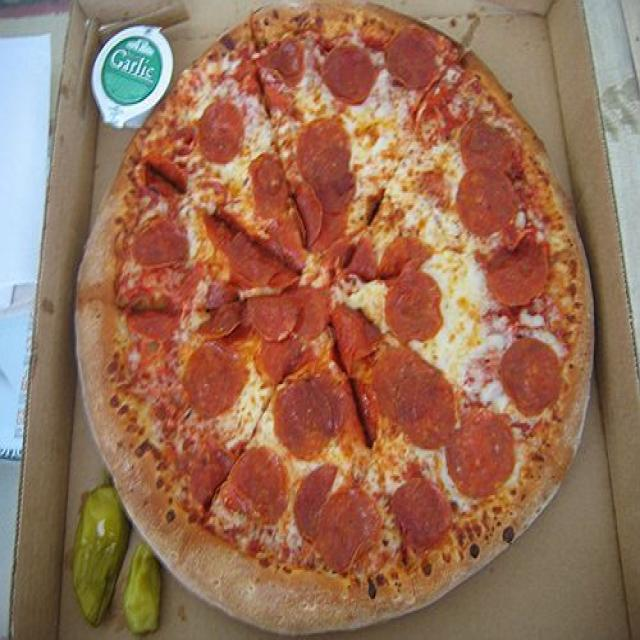pepperoni: (368, 350, 458, 446), (298, 467, 378, 566), (451, 404, 513, 500), (301, 117, 360, 215), (384, 266, 454, 344), (488, 228, 550, 311), (501, 338, 567, 414), (227, 446, 290, 525), (228, 229, 303, 294), (458, 161, 517, 243), (276, 373, 332, 459), (392, 477, 453, 550), (184, 340, 238, 412), (460, 111, 514, 179), (384, 21, 437, 90), (322, 40, 374, 106), (130, 215, 191, 271), (127, 285, 184, 344), (245, 150, 294, 214), (138, 152, 198, 204), (246, 289, 300, 346), (284, 286, 336, 345), (324, 234, 376, 290), (199, 289, 251, 343), (198, 100, 242, 163), (248, 334, 298, 389), (266, 34, 310, 88), (379, 231, 427, 280)
pizza: (70, 3, 595, 640)
